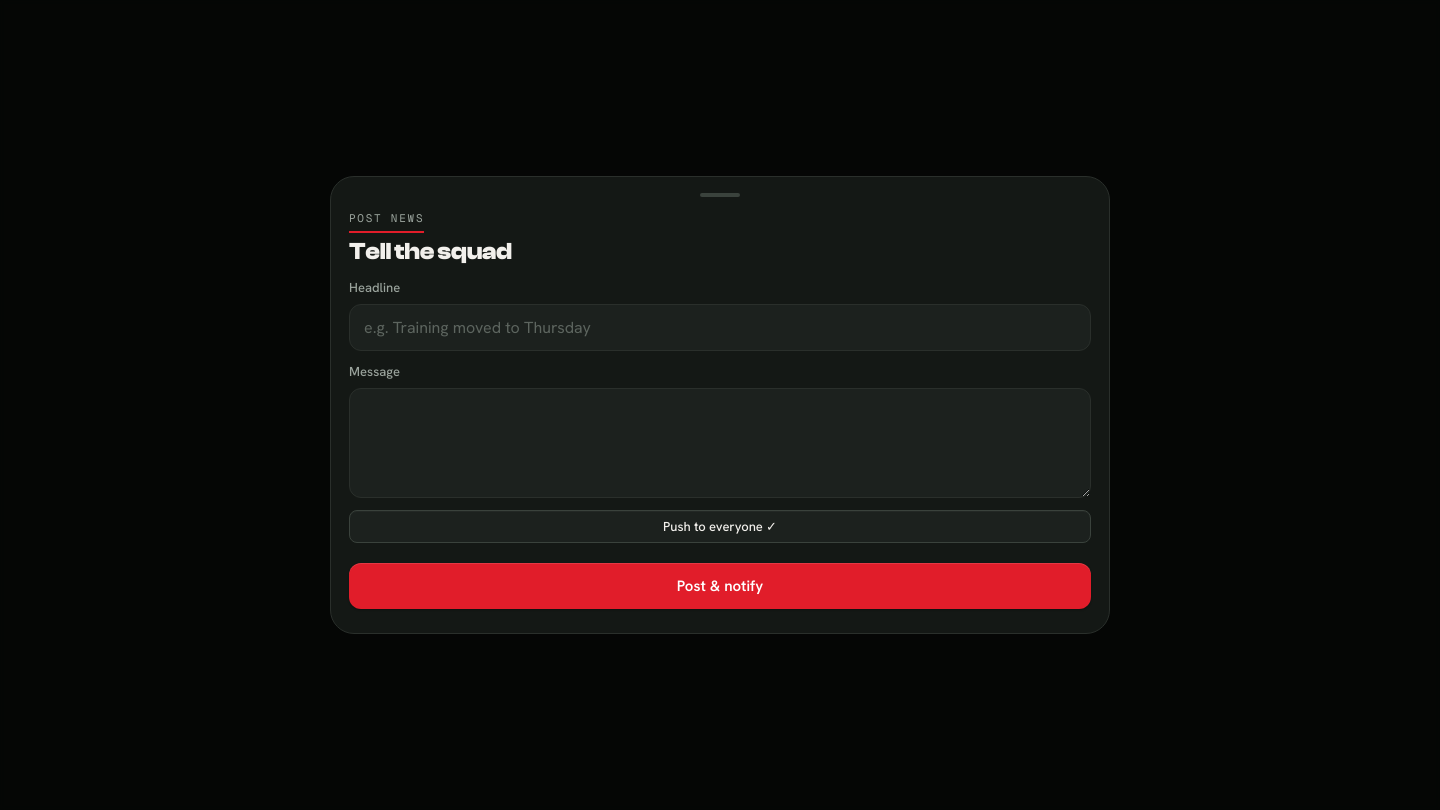
Test: NewsForm › blocks an empty post
The image size is (1440, 810).
Click the button "Post & notify": {"x": 720, "y": 586} left=349, top=563, right=1091, bottom=609
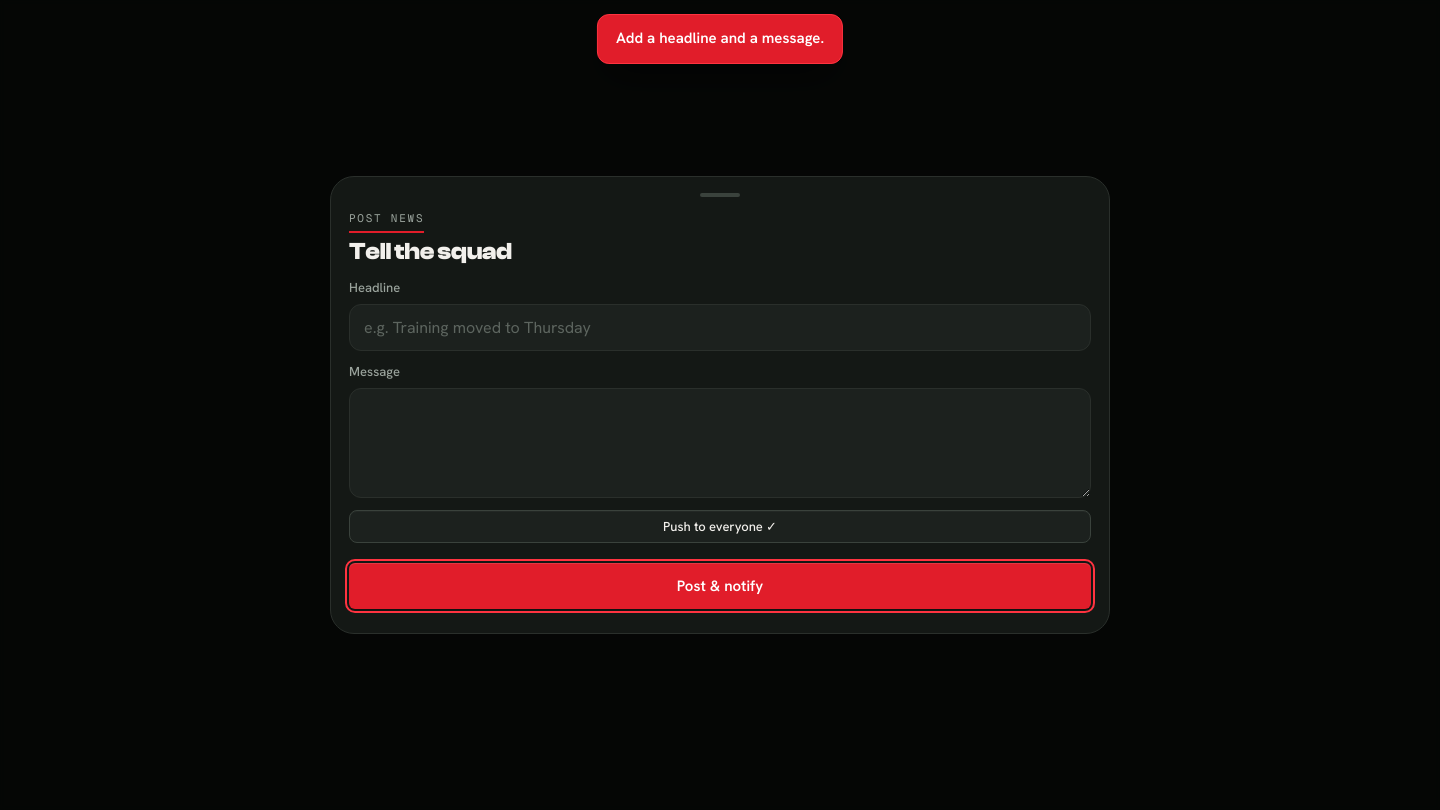
Expected: the message shows "headline", left=616, top=28, right=824, bottom=48
